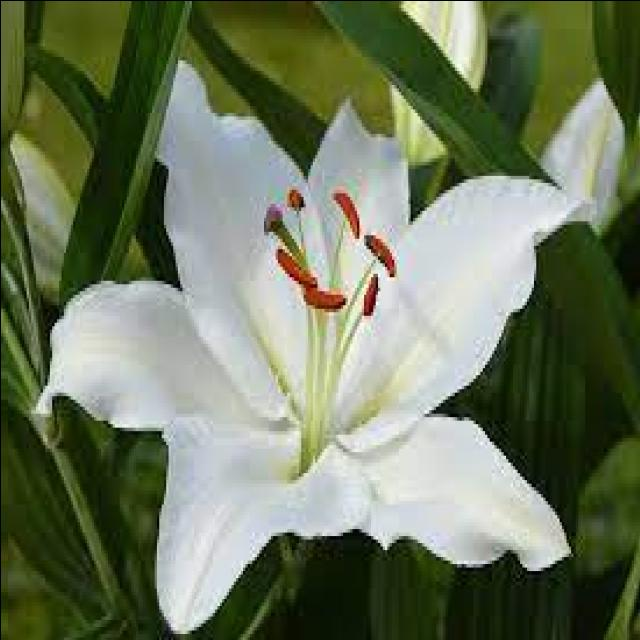lily: (26, 73, 594, 640)
